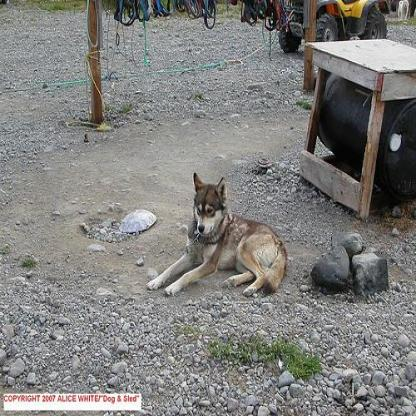Eskimo_dog: (143, 167, 289, 300)
